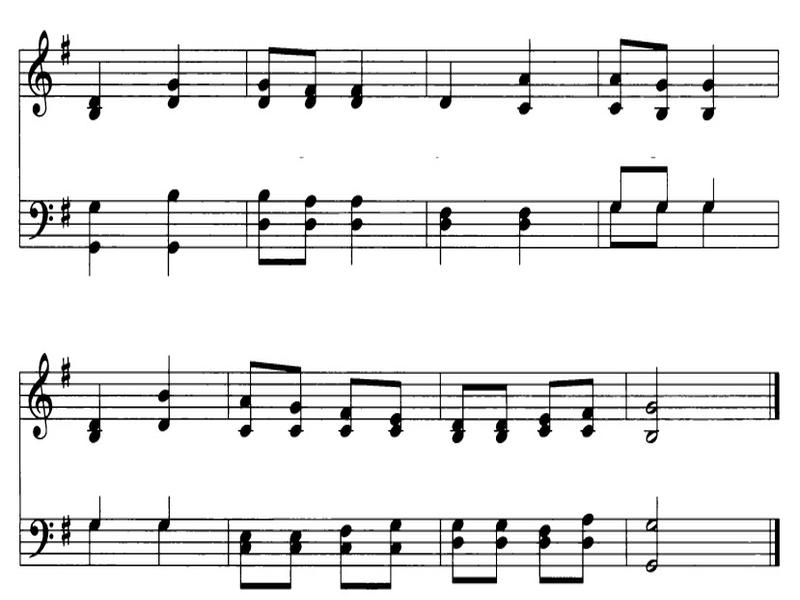B: (644, 480, 664, 574), (644, 362, 666, 446), (642, 484, 667, 537), (637, 536, 667, 579)
C: (368, 368, 417, 447), (290, 186, 331, 272), (328, 356, 367, 445), (644, 34, 679, 127), (283, 344, 315, 442), (275, 508, 311, 594), (566, 508, 605, 587), (254, 181, 286, 271), (236, 356, 268, 442), (247, 41, 282, 111), (533, 367, 564, 444), (447, 358, 473, 447), (377, 517, 406, 594), (483, 520, 516, 586), (578, 371, 607, 444), (489, 370, 514, 454), (607, 34, 633, 114), (446, 514, 473, 590), (237, 523, 263, 596), (298, 45, 324, 111), (336, 514, 357, 594), (532, 523, 557, 585), (648, 164, 676, 211), (614, 158, 633, 214), (646, 202, 667, 250), (606, 202, 626, 251)
CF: (23, 194, 55, 245), (27, 518, 55, 564)
CS: (14, 23, 57, 121), (27, 351, 57, 452)
N: (147, 164, 201, 284), (330, 26, 388, 115), (501, 24, 547, 121), (693, 34, 730, 126), (156, 35, 197, 117), (149, 347, 185, 436), (503, 191, 542, 271), (83, 374, 121, 447), (84, 35, 116, 119), (344, 182, 369, 273), (434, 195, 463, 268), (86, 197, 107, 282), (86, 468, 112, 531), (84, 517, 107, 581), (437, 50, 457, 115), (162, 183, 186, 231), (152, 521, 174, 572), (696, 199, 717, 251), (82, 241, 106, 285), (701, 174, 722, 213), (166, 242, 185, 284), (157, 494, 178, 532), (86, 197, 104, 234)
SOS: (56, 189, 79, 229), (57, 514, 76, 543), (58, 353, 74, 386), (55, 33, 71, 62)
